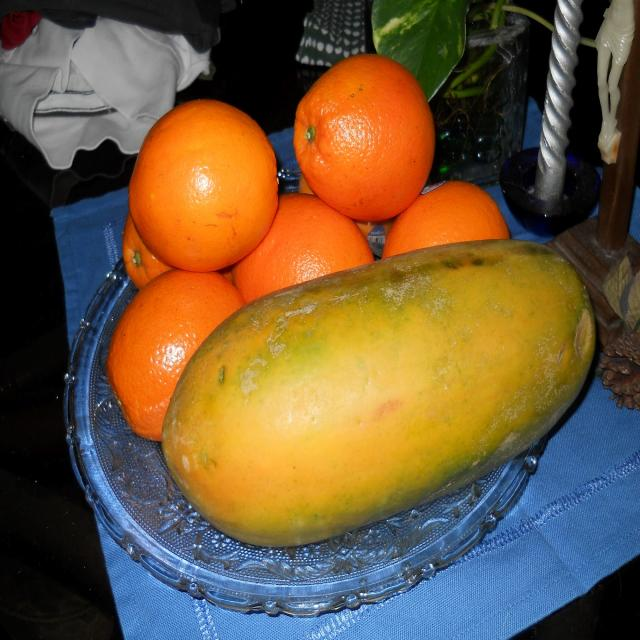Pepaya rippen: (155, 242, 600, 516)
